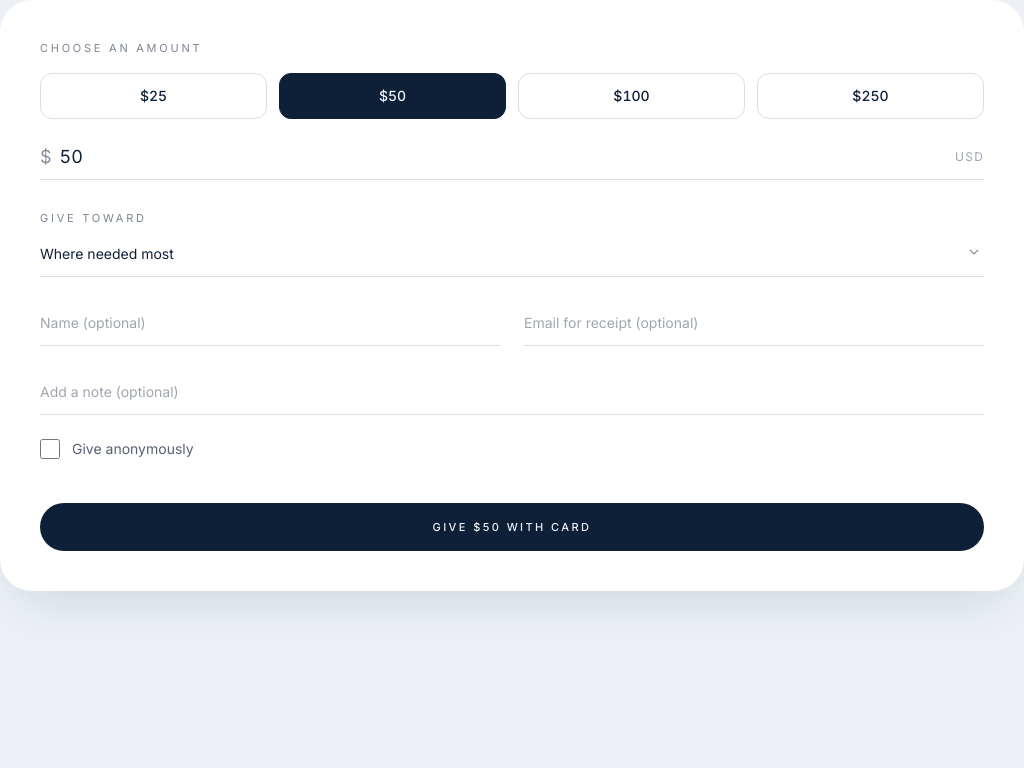
Test: DonateForm › the card button posts the gift to the Stripe session route and surfaces its error
Select "Missions & Outreach" in the dropdown labelled "Give toward" at (512, 254), box 40,232 -> 984,276
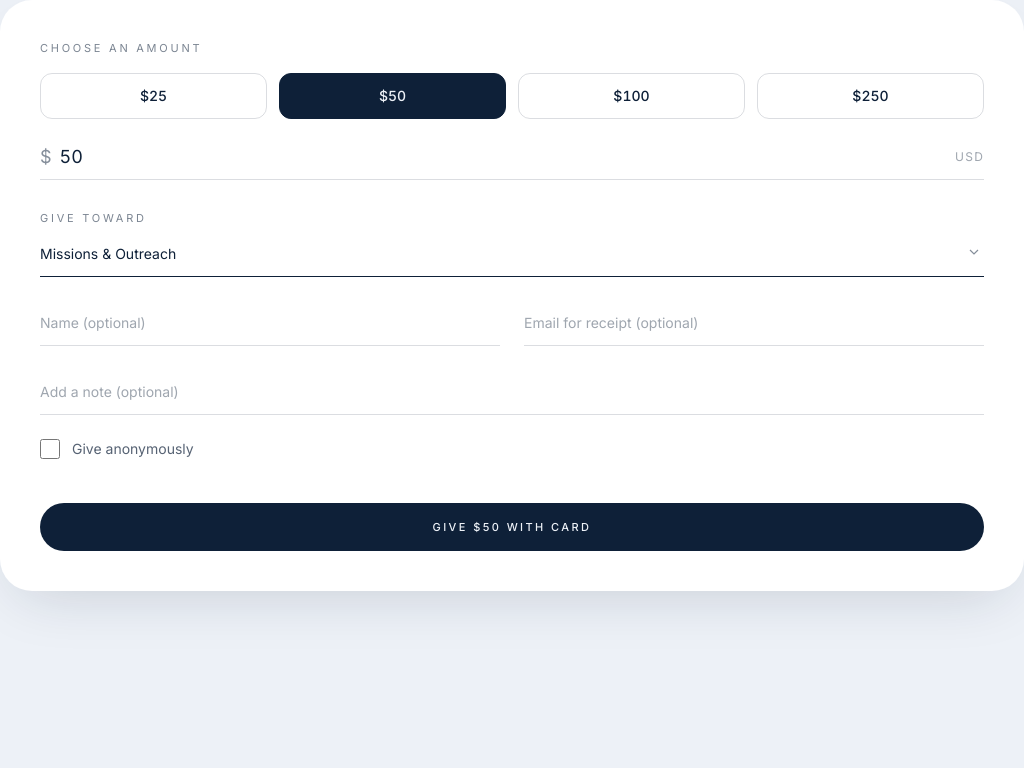
Click the button "Give $50 with card" at (512, 527), box 40,502 -> 984,551
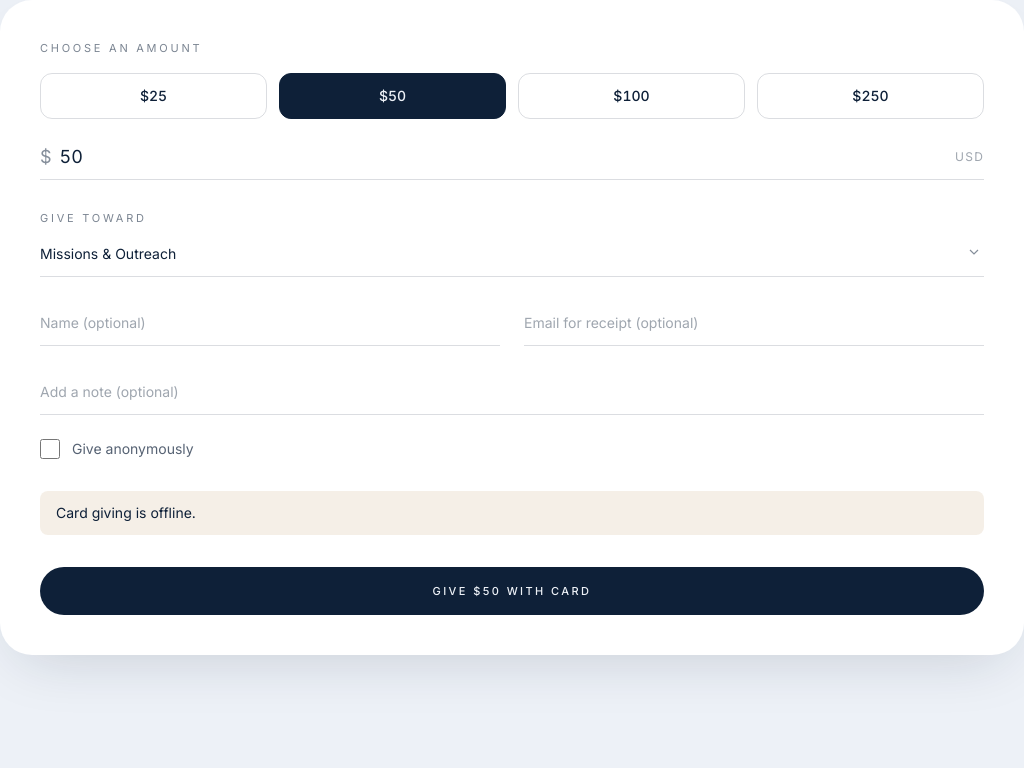
Expected: the button "Give $50 with card" is enabled, 40,566 -> 984,615
Expected: the message reads "Card giving is offline.", 56,504 -> 196,520
